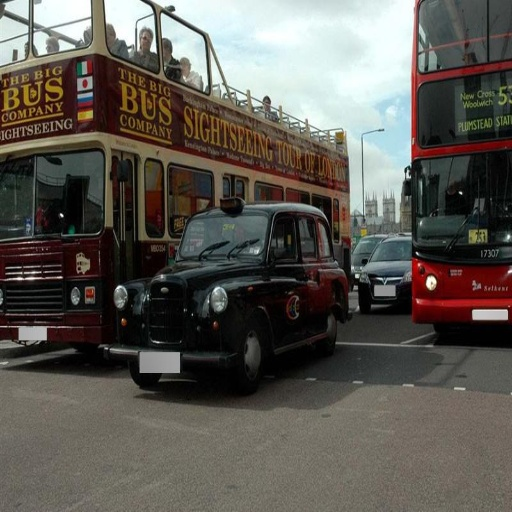back_bumper: (398, 259, 508, 320)
trunk: (188, 259, 263, 289)
